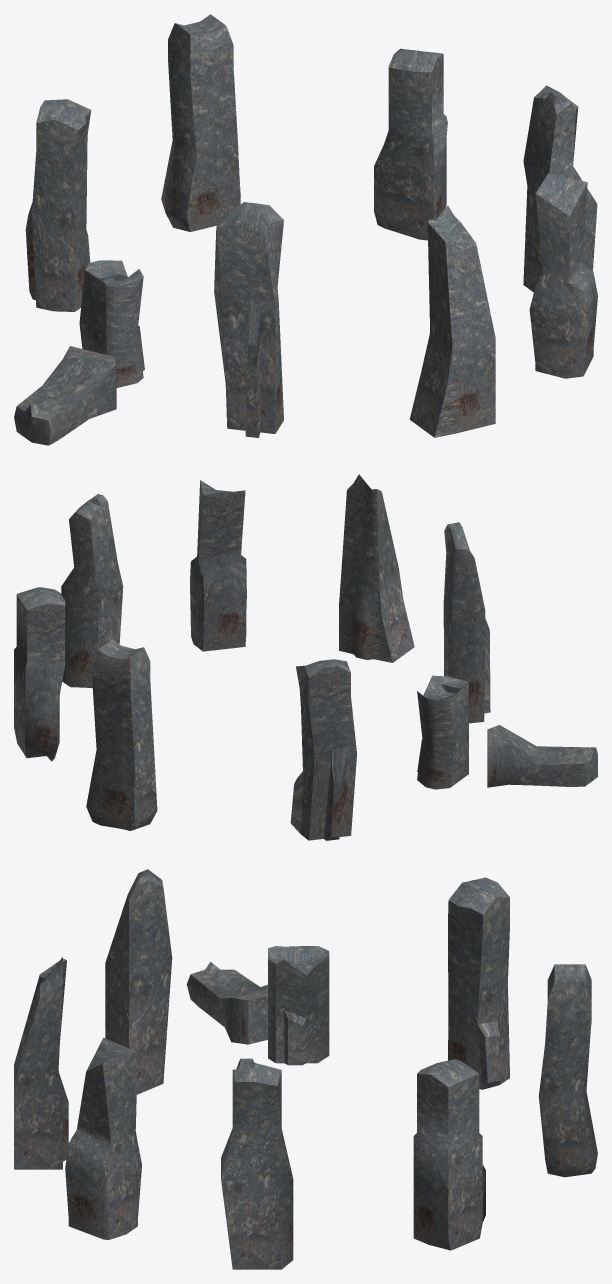
Rendered from MagicStones.fbx.
3 renders of one model, top to bottom at view 1: azimuth 30°, elevation 25°; view 2: azimuth 150°, elevation 25°; view 3: azimuth 270°, elevation 25°, orthographic. The views are drawn at different scales.
Parts seen in each view (by area): view 1: pCube7, pCube3, pCube1, pCube8, pCube6, pCube5, pCube4, pCube9, pCube2; view 2: pCube3, pCube1, pCube8, pCube4, pCube5, pCube6, pCube7, pCube2, pCube9; view 3: pCube4, pCube6, pCube5, pCube8, pCube7, pCube3, pCube1, pCube2, pCube9.
Boxes of the visible parts, x1,y1,x2,y2 form: pCube7: [214, 202, 283, 437]; pCube3: [161, 14, 240, 231]; pCube1: [409, 205, 495, 437]; pCube8: [25, 99, 91, 311]; pCube6: [374, 48, 447, 240]; pCube5: [529, 173, 597, 378]; pCube4: [523, 85, 597, 292]; pCube9: [14, 346, 116, 445]; pCube2: [79, 260, 144, 387]; pCube3: [86, 639, 157, 830]; pCube1: [339, 474, 414, 662]; pCube8: [290, 659, 356, 840]; pCube4: [61, 494, 123, 687]; pCube5: [190, 480, 246, 651]; pCube6: [14, 587, 65, 761]; pCube7: [443, 522, 490, 723]; pCube2: [417, 675, 468, 789]; pCube9: [487, 725, 597, 787]; pCube4: [221, 1058, 293, 1269]; pCube6: [413, 1059, 485, 1250]; pCube5: [65, 1037, 141, 1239]; pCube8: [448, 877, 509, 1089]; pCube7: [105, 869, 172, 1094]; pCube3: [538, 964, 597, 1177]; pCube1: [14, 957, 68, 1169]; pCube2: [268, 946, 329, 1065]; pCube9: [186, 961, 267, 1044].
Bounding box in the file's own units: 13.37 × 4.84 × 11.95.
